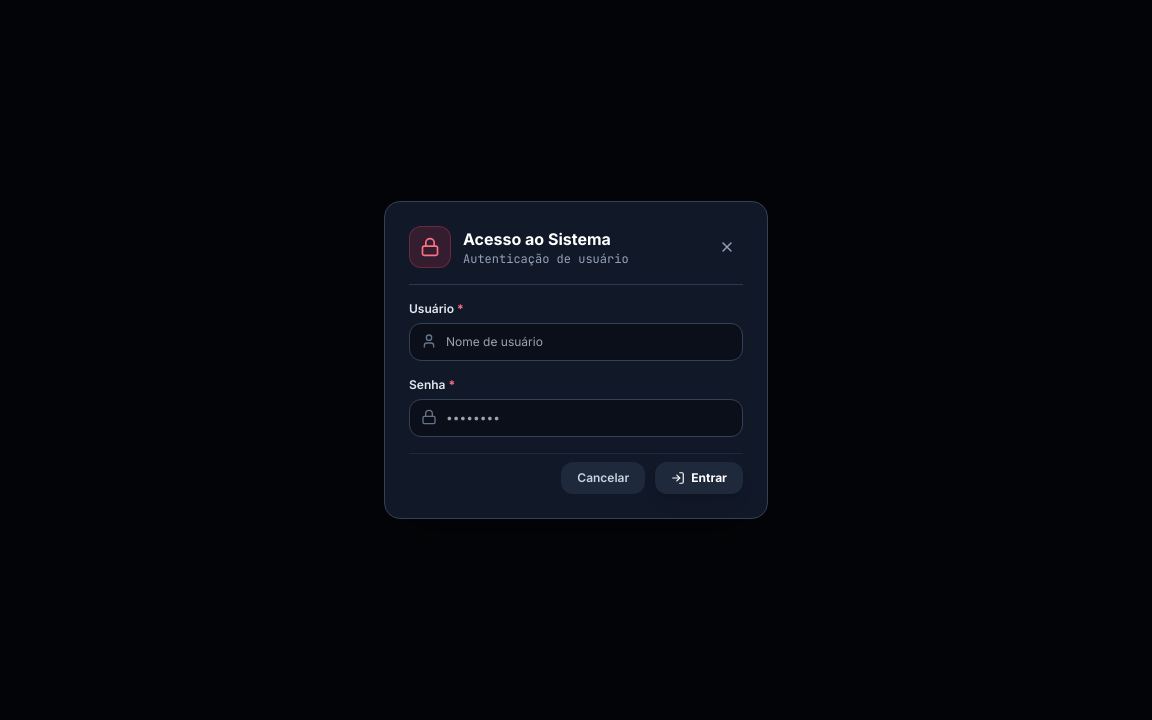
Scenario: LoginModal Component Tests › shows error message when login fails and keeps modal open
The image size is (1152, 720).
Type "admin" into the field with test id "login-username-input" at (576, 342), box left=409, top=323, right=743, bottom=361
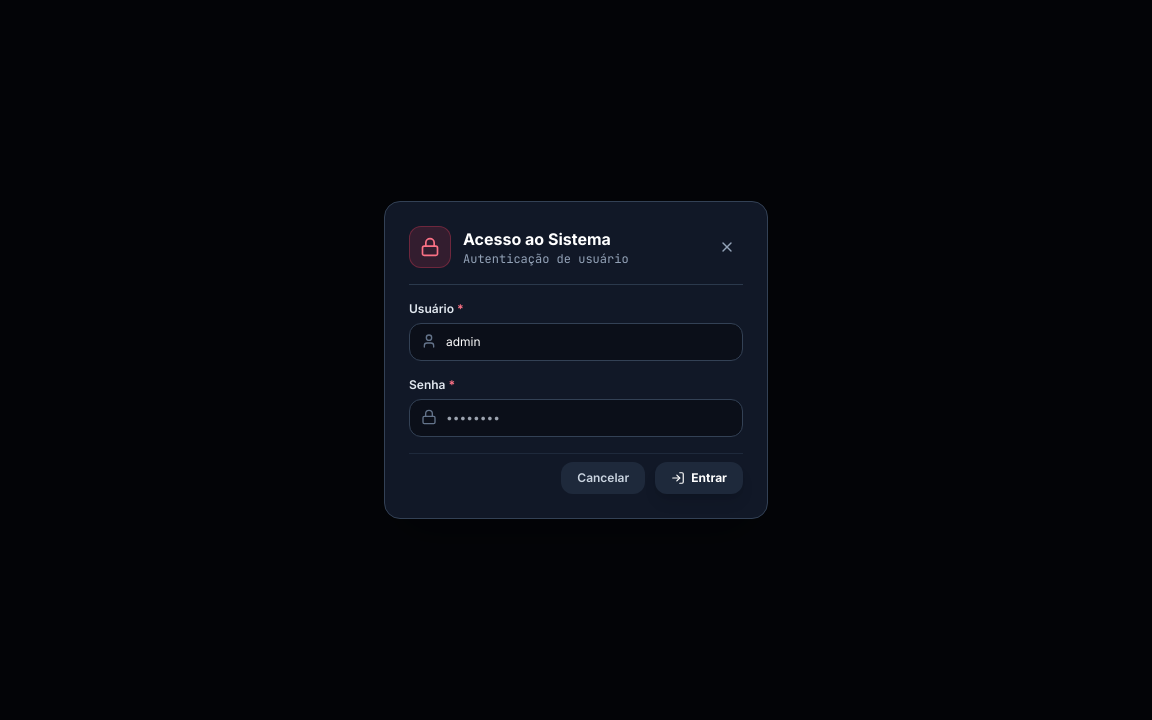
Type "wrong" into the password field with test id "login-password-input" at (576, 418), box left=409, top=399, right=743, bottom=437
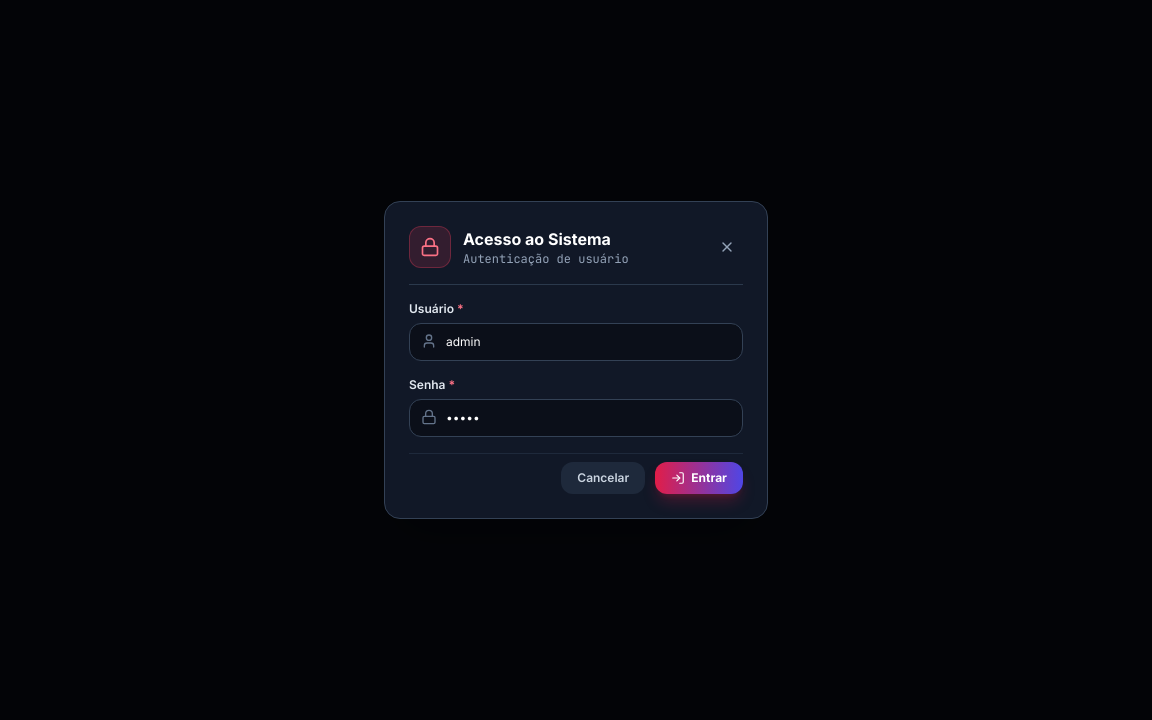
Click the button with test id "login-submit-btn" at (699, 478), box left=655, top=462, right=743, bottom=494
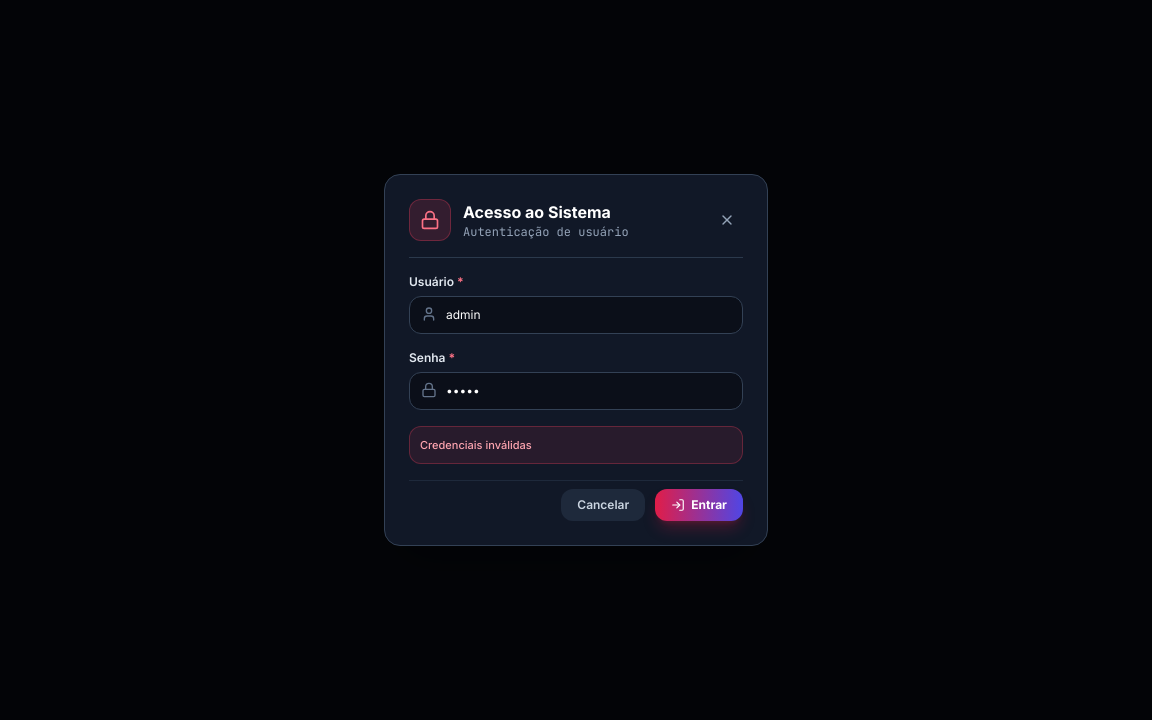
Now the text with test id "login-error" reads "Credenciais inválidas", box left=420, top=438, right=532, bottom=452
